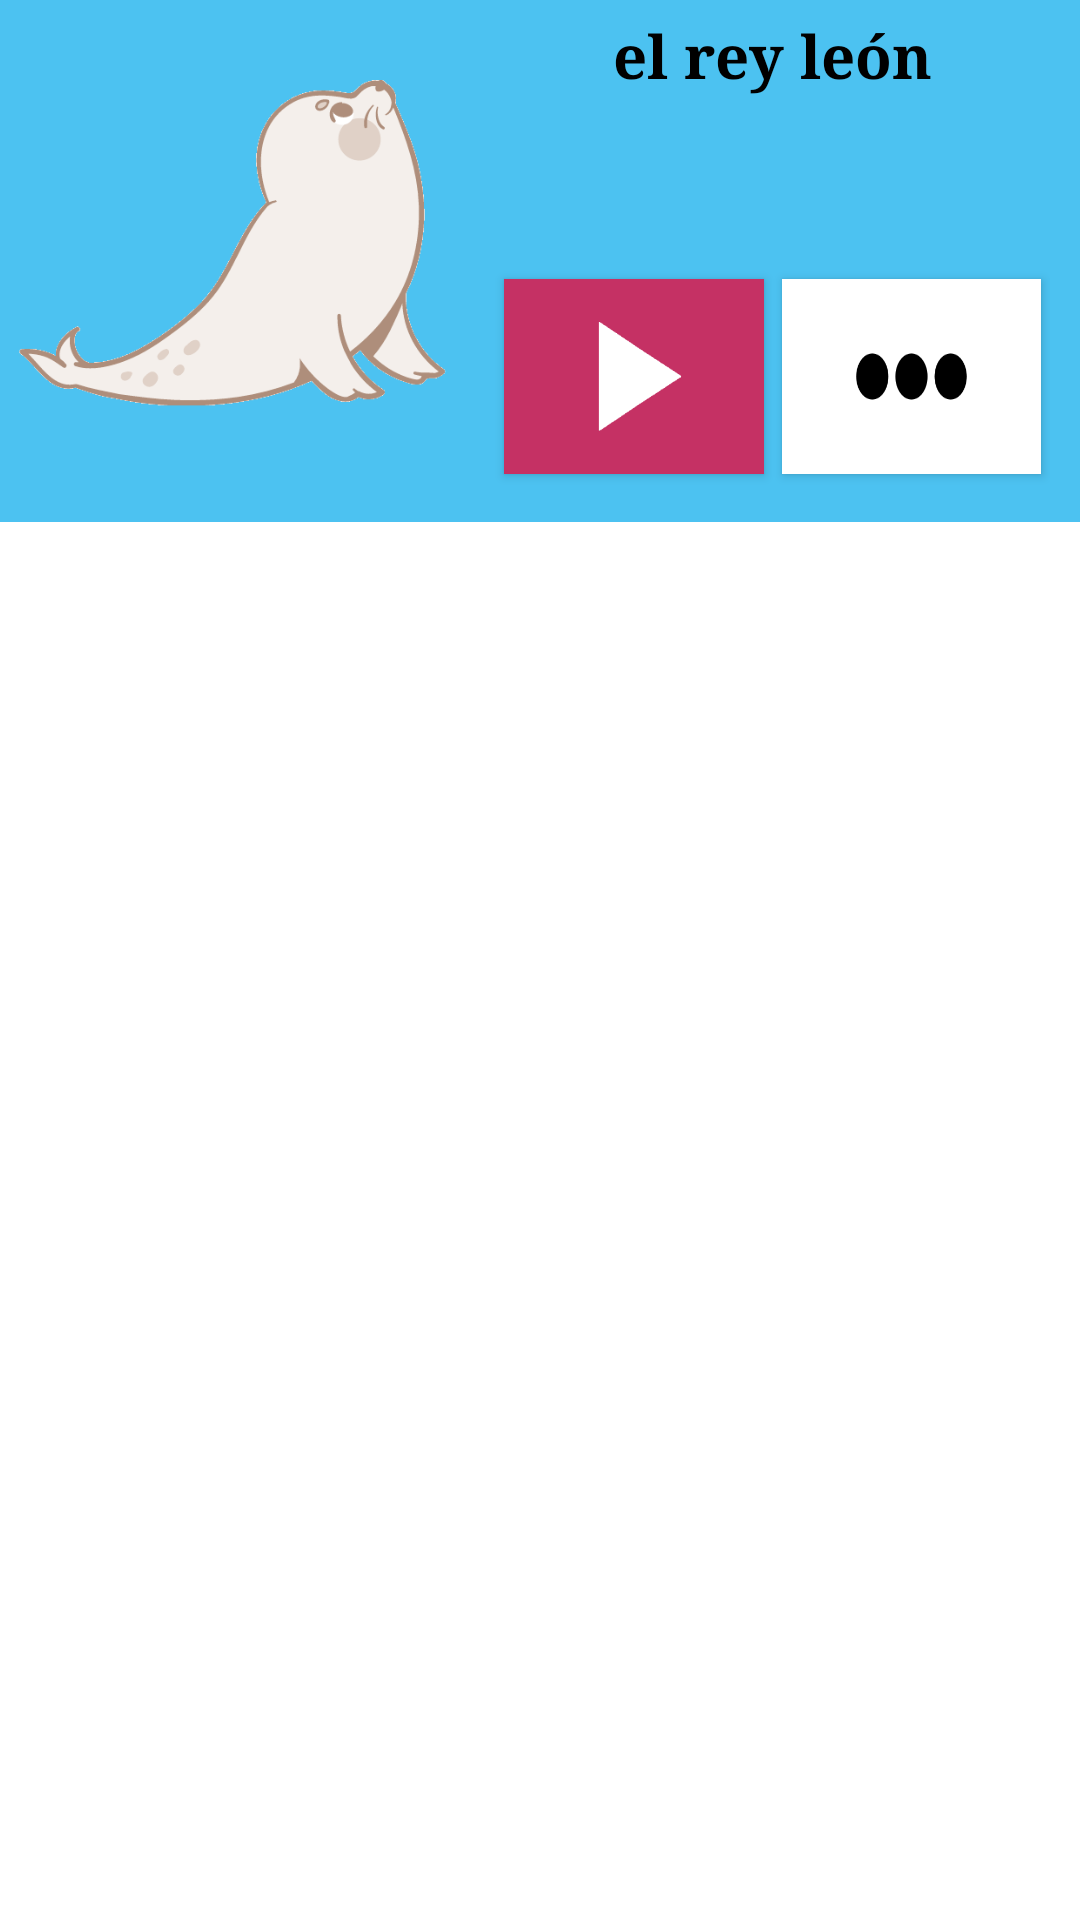

Screen size 1080w x 1920h. Icon name, then its box in pixels as (x1, y1, x2, y2):
btnplay: (504, 279, 764, 474)
dots: (782, 279, 1041, 474)
